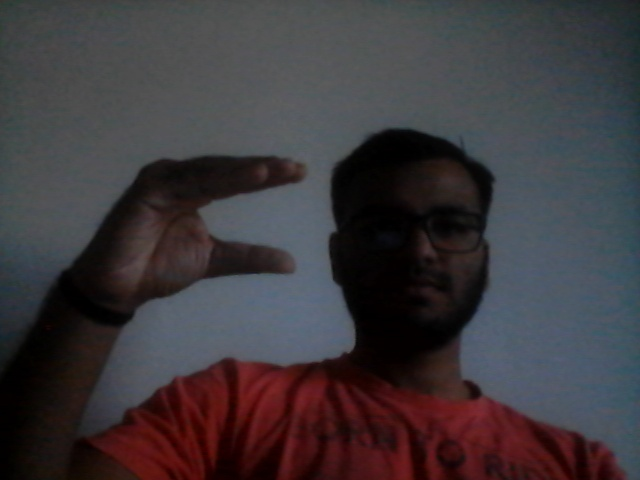No: (74, 154, 313, 296)
